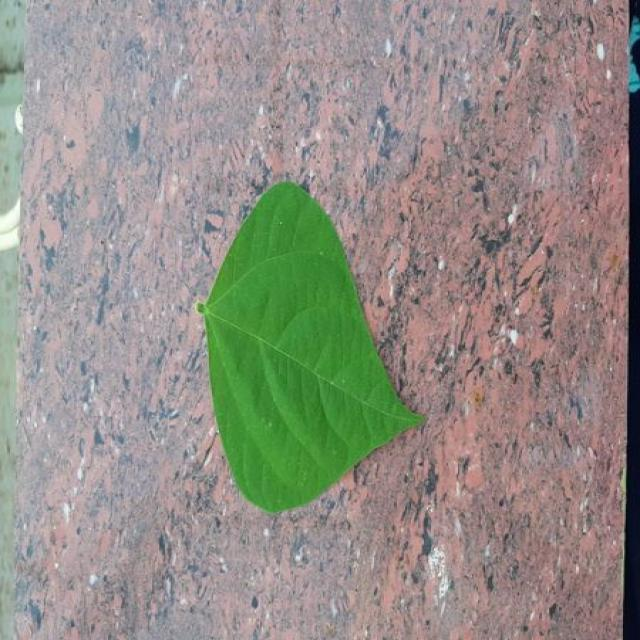beans: (198, 182, 423, 512)
